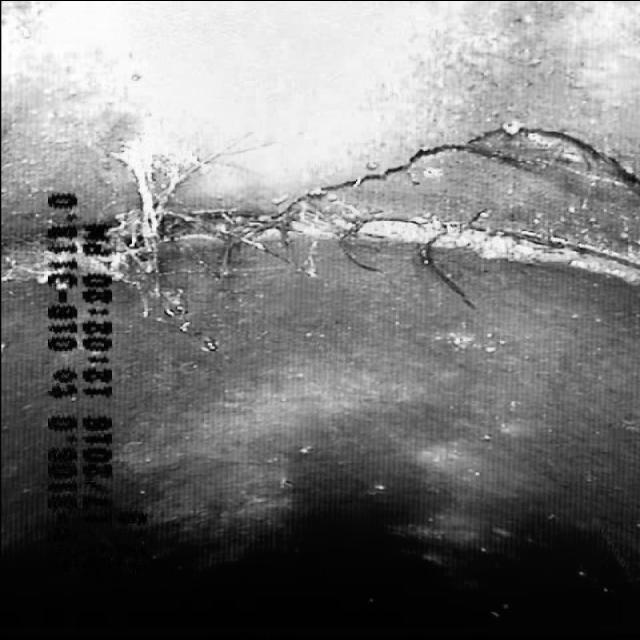Fracture: (238, 80, 622, 218)
